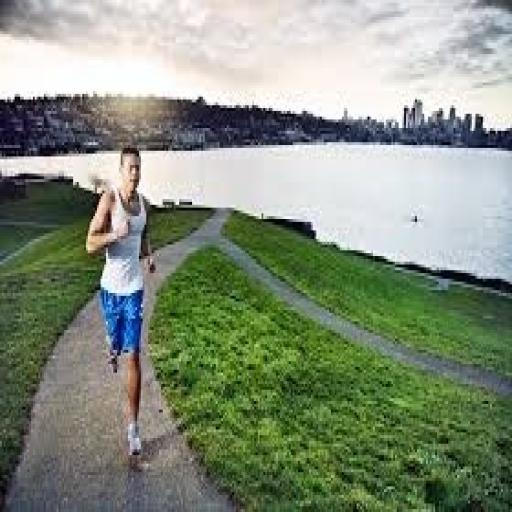running: (82, 142, 159, 464)
